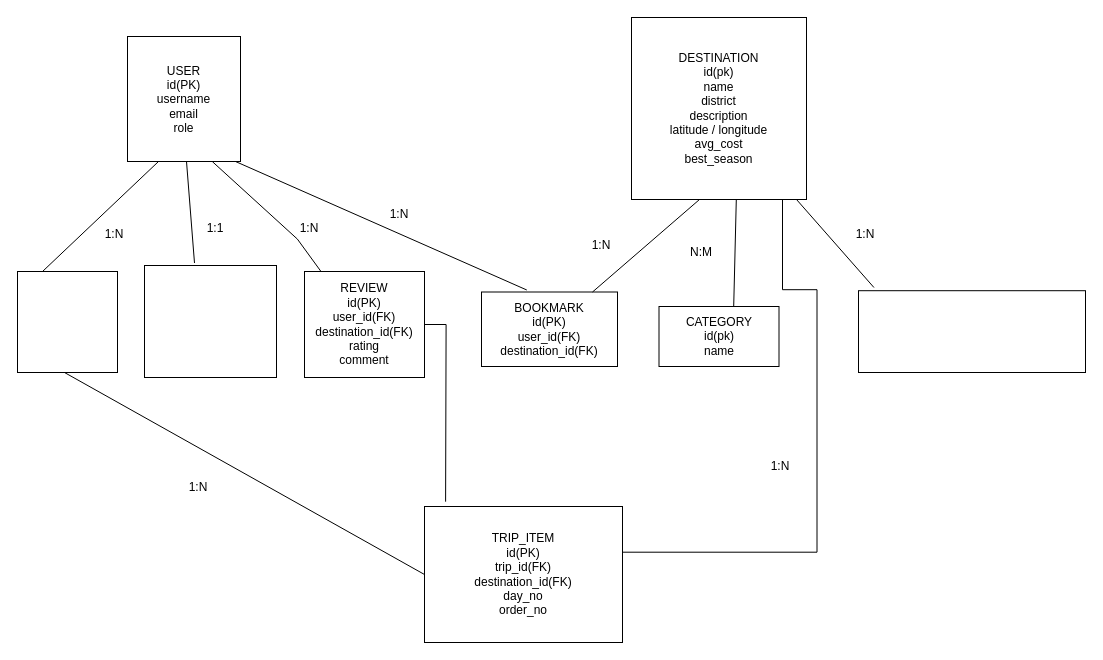
Some shapes in this 1103 by 660 pixel diagram are drawn without their labels. The centre of each missing label's shape, as x and y in pixels:
DESTINATION_IMAGE id(pk) destination_id(FK) image: point 972,331
TRAVEL_PROFIE id(pk) user_id(FK) interests budget_level preferred_season: point 210,321
TRIP id(PK) user_id(FK) title start_date days budget: point 67,321
